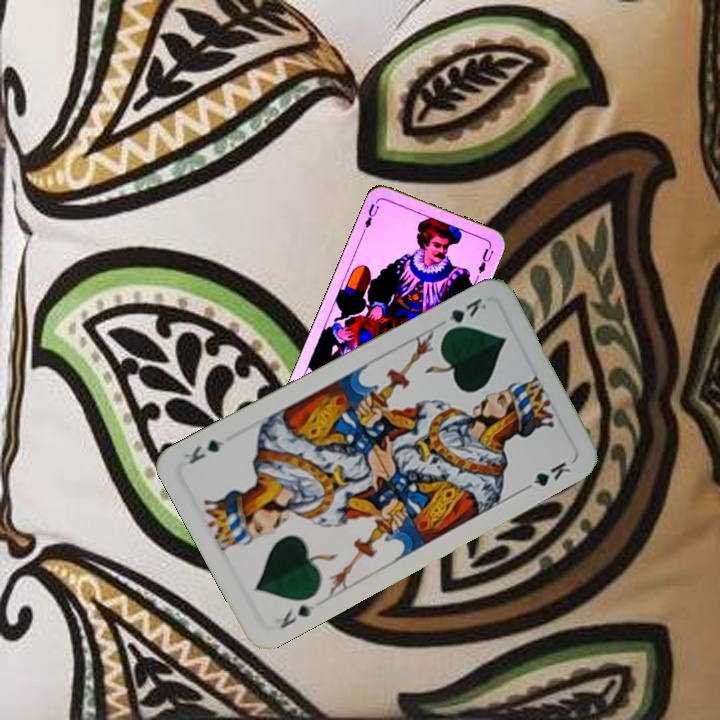EU: (359, 199, 382, 234)
GK: (439, 294, 489, 336), (276, 600, 317, 632)
